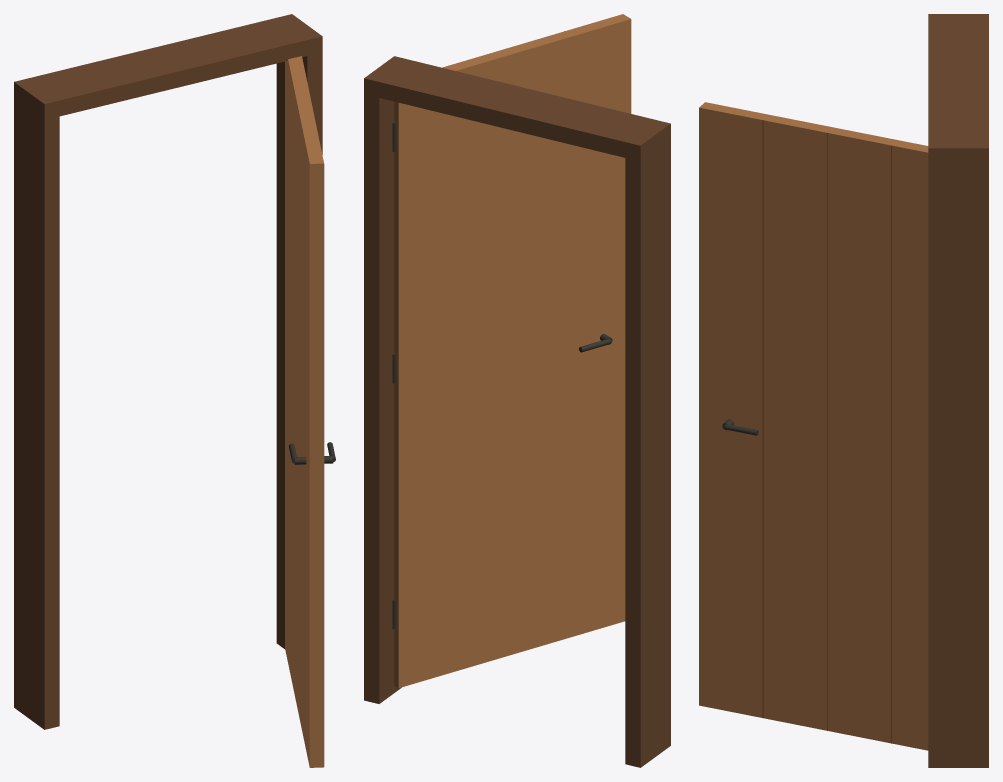
File: door-bathroom.gltf
The picture shows the model from 3 angles, left to right: view 1: azimuth 30°, elevation 25°; view 2: azimuth 150°, elevation 25°; view 3: azimuth 270°, elevation 25°; orthographic projection.
Visible parts, largest first — view 1: West cross partition frame jamb 0 1.59, West cross partition door solid core, West cross partition frame head 0, West cross partition frame jamb 0 0.65; view 2: West cross partition door solid core, West cross partition frame jamb 0 1.59, West cross partition frame jamb 0 0.65, West cross partition frame head 0; view 3: West cross partition door solid core, West cross partition frame jamb 0 0.65, West cross partition frame head 0, West cross partition door board joint 3, West cross partition door board joint 1, West cross partition door board joint 2.
Boxes of the visible parts, x1=… form: West cross partition frame jamb 0 1.59: x1=14, y1=78, x2=59, y2=729; West cross partition door solid core: x1=285, y1=56, x2=324, y2=767; West cross partition frame head 0: x1=14, y1=14, x2=322, y2=119; West cross partition frame jamb 0 0.65: x1=276, y1=14, x2=322, y2=649; West cross partition door solid core: x1=394, y1=14, x2=631, y2=688; West cross partition frame jamb 0 1.59: x1=625, y1=120, x2=670, y2=767; West cross partition frame jamb 0 0.65: x1=364, y1=56, x2=407, y2=703; West cross partition frame head 0: x1=364, y1=56, x2=670, y2=160; West cross partition door solid core: x1=699, y1=102, x2=928, y2=750; West cross partition frame jamb 0 0.65: x1=928, y1=141, x2=988, y2=767; West cross partition frame head 0: x1=928, y1=14, x2=988, y2=164; West cross partition door board joint 3: x1=762, y1=120, x2=763, y2=718; West cross partition door board joint 1: x1=891, y1=145, x2=891, y2=743; West cross partition door board joint 2: x1=827, y1=133, x2=827, y2=730.
Bounding box in the file's own units: 1 × 2.15 × 0.9111.
